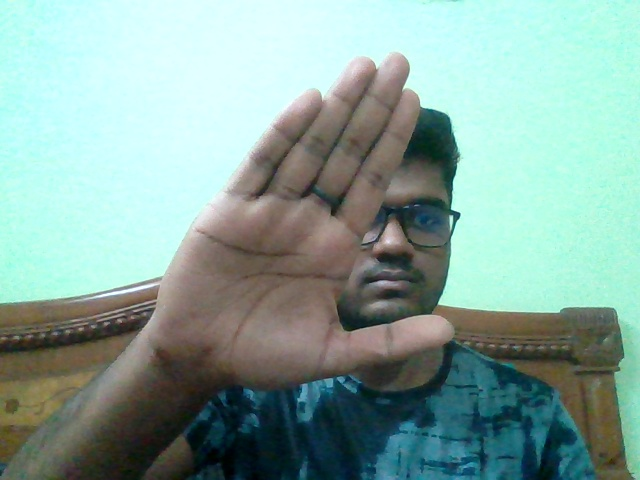Paper: (147, 52, 455, 392)
